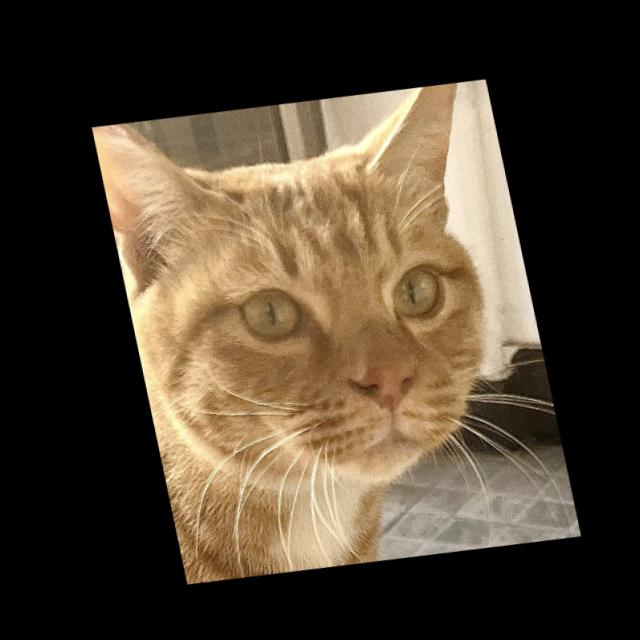animals: (88, 65, 555, 524)
